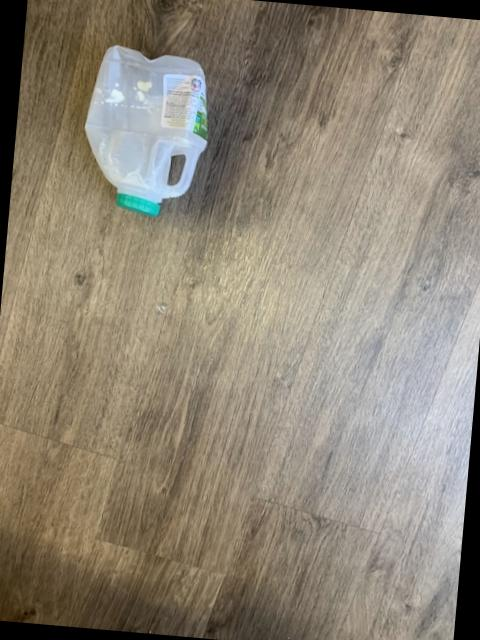plastic: (84, 47, 206, 217)
